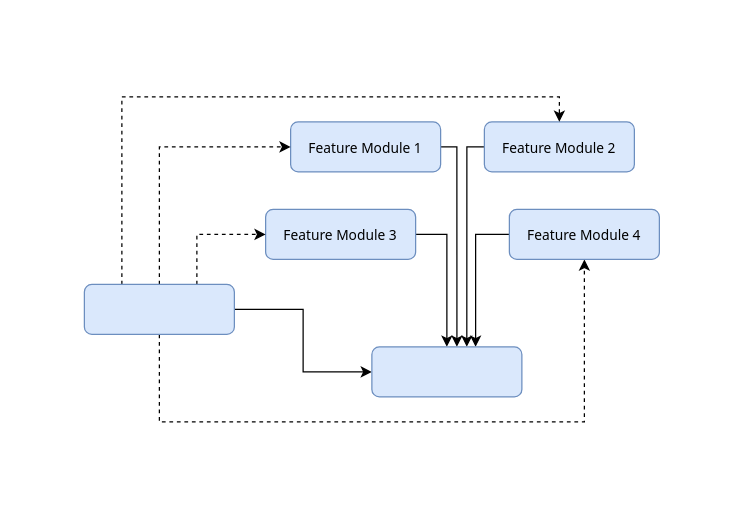
This 743x530 diagram has some shape labels left out. Here are the shapes that lost their labels. From the top down, the centre of each, then its label:
At (158,308): "Base Module".
At (446,371): "Shared Module".
